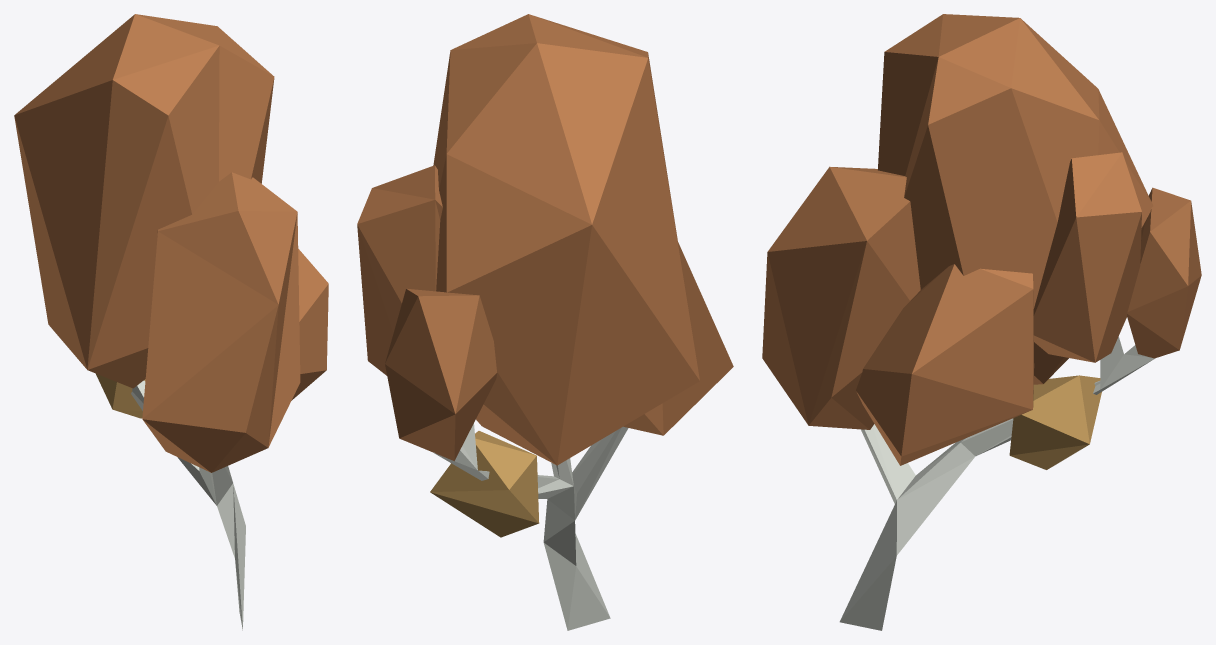
Rendered from BirchTree_Autumn_1.lod3.glb.
3 views of the same model, side by side, from view 1: azimuth 30°, elevation 25°; view 2: azimuth 150°, elevation 25°; view 3: azimuth 270°, elevation 25° (orthographic). The views are drawn at different scales.
Parts seen in each view (by area): view 1: BirchTree_Autumn_1; view 2: BirchTree_Autumn_1; view 3: BirchTree_Autumn_1.
Boxes of the visible parts, x1,y1,x2,y2 form: BirchTree_Autumn_1: (14, 14, 328, 630); BirchTree_Autumn_1: (357, 14, 733, 630); BirchTree_Autumn_1: (762, 14, 1201, 630).
Size of the model in its own units: 1.57 by 3.56 by 2.39.
